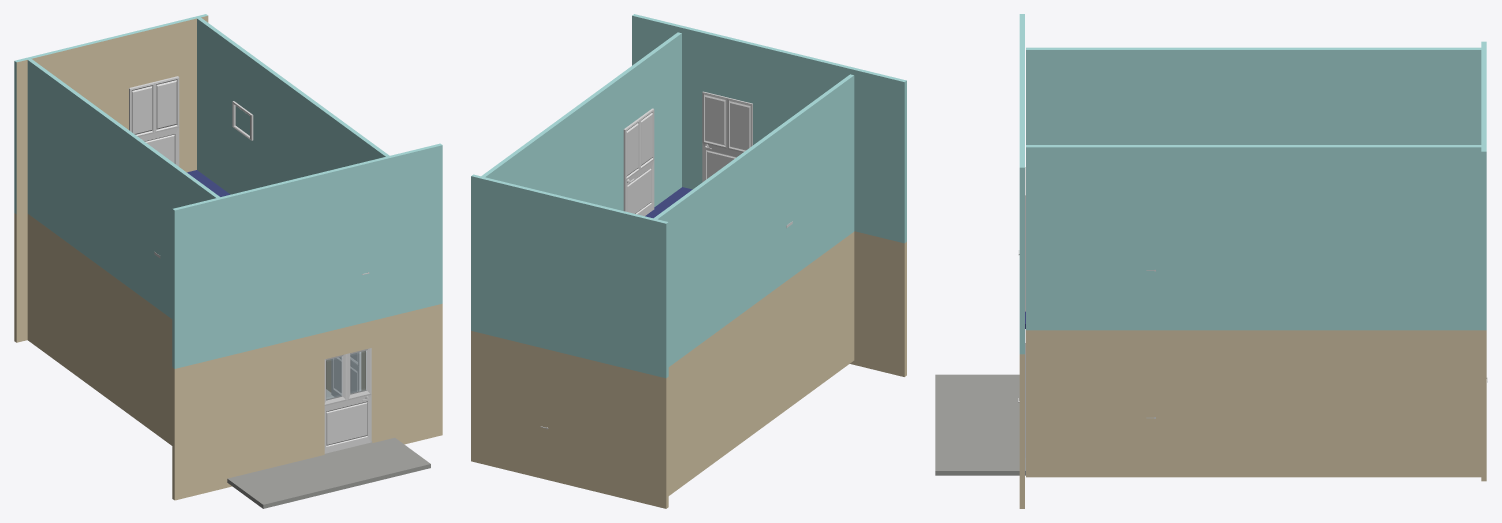
The model's file is HALL AND STAIRS SCENE.fbx.
3 renders of one model, left to right at view 1: azimuth 30°, elevation 25°; view 2: azimuth 150°, elevation 25°; view 3: azimuth 270°, elevation 25°, orthographic. The views are drawn at different scales.
Visible parts, largest first — view 1: Wall 1, Wall 4, Wall 2, Wall 3, Floor, Front door, Bathroom door, Lounge door; view 2: Wall 3, Wall 4, Wall 1, Wall 2, Kids room door, Parents door; view 3: Wall 2, Wall 4, Floor, Wall 1, Wall 3.
Part boxes in pixels (x1,y1,x2,y2): Wall 1: [172, 143, 442, 500]; Wall 4: [27, 58, 219, 445]; Wall 2: [197, 17, 389, 392]; Wall 3: [14, 14, 208, 342]; Floor: [227, 389, 430, 508]; Front door: [324, 348, 371, 453]; Bathroom door: [129, 76, 179, 166]; Lounge door: [331, 352, 361, 396]; Wall 3: [471, 174, 668, 508]; Wall 4: [653, 74, 854, 495]; Wall 1: [632, 14, 906, 376]; Wall 2: [481, 32, 681, 210]; Kids room door: [702, 91, 752, 182]; Parents door: [623, 108, 654, 216]; Wall 2: [1026, 145, 1483, 477]; Wall 4: [1026, 47, 1483, 144]; Floor: [935, 374, 1025, 475]; Wall 1: [1019, 14, 1024, 508]; Wall 3: [1481, 41, 1486, 481].
Size of the model in its own units: 3199 by 3339 by 4857.
